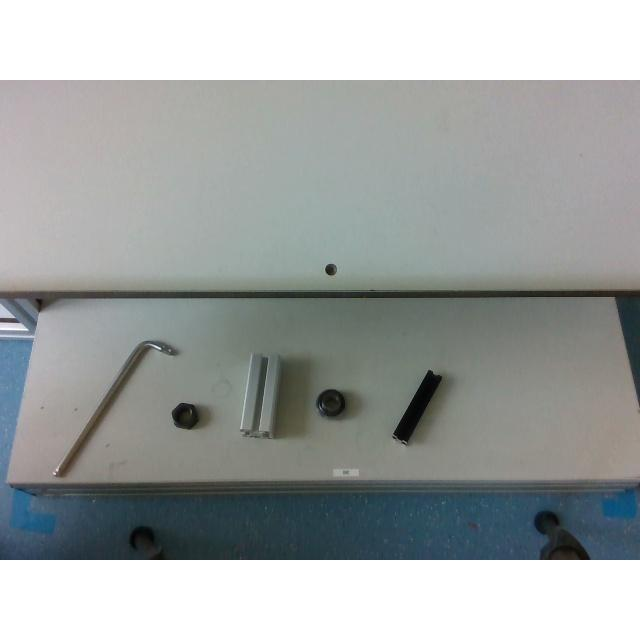AllenKey: (52, 340, 178, 476)
Bearing2: (316, 389, 344, 417)
F20_20_B: (393, 370, 441, 444)
M20: (170, 402, 198, 430)
S40_40_G: (242, 353, 278, 435)
